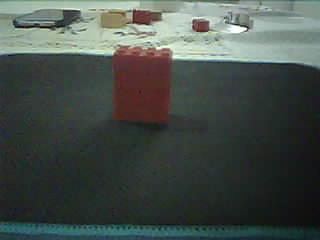lego: (111, 44, 173, 124), (99, 12, 126, 28), (131, 9, 151, 24), (190, 17, 209, 31), (107, 9, 127, 17), (149, 10, 162, 21)
